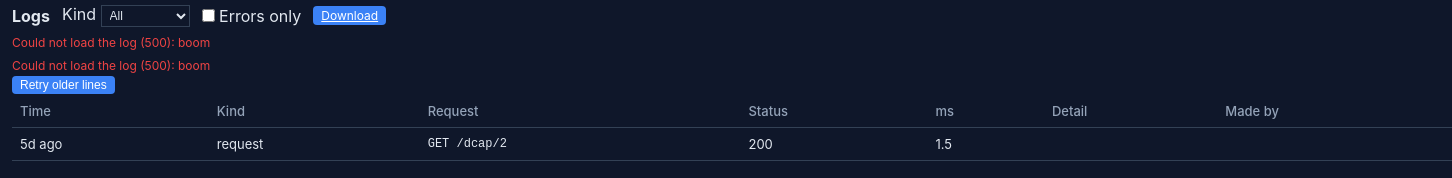
DeviceLog › stops loading on a failed older read and retries only on request
Expected: the message with test id "device-logs-error" shows "boom", [12, 35, 210, 50]
Click the button with test id "device-logs-older-retry" at (63, 85), box [12, 76, 115, 94]
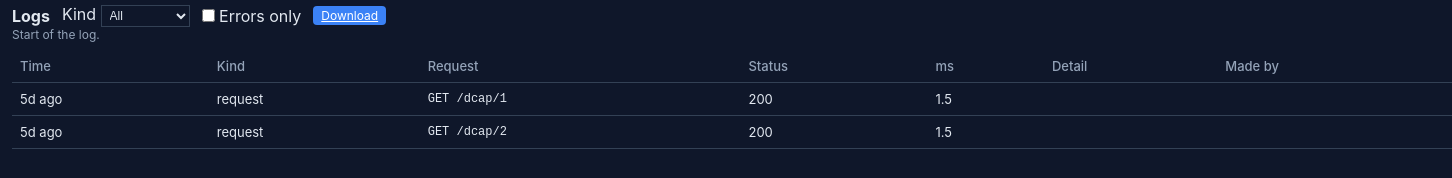
Result: the number of rows with test id "device-log-row" is 2 at [12, 83, 1451, 116]; [12, 116, 1451, 148]
